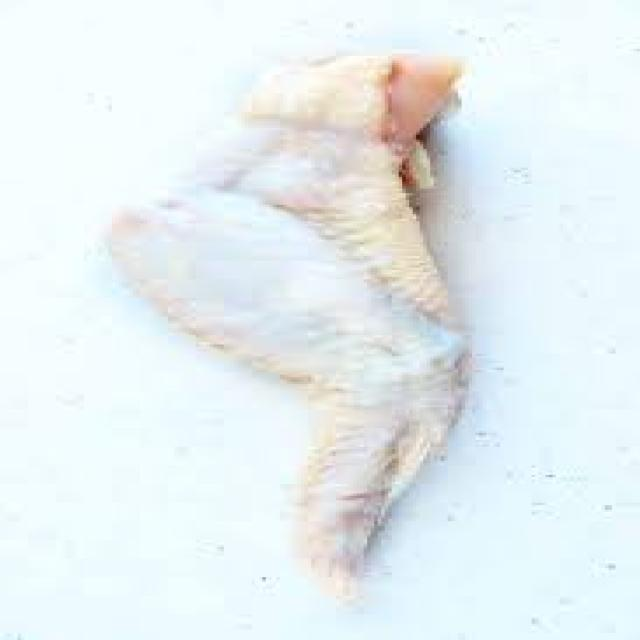wing: (119, 51, 512, 604)
